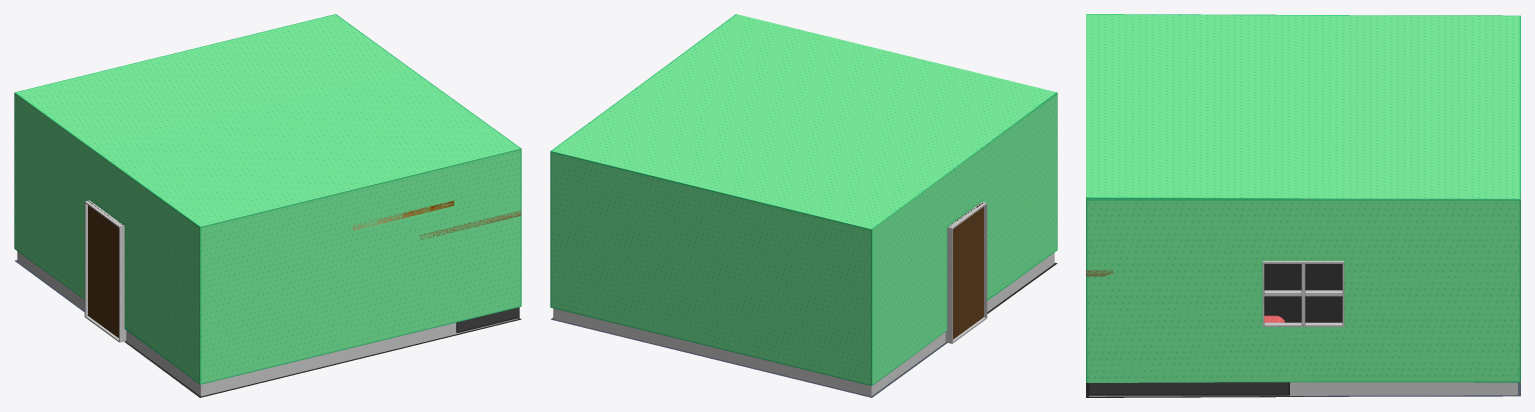
File: room.fbx
The picture shows the model from 3 angles, left to right: view 1: azimuth 30°, elevation 25°; view 2: azimuth 150°, elevation 25°; view 3: azimuth 270°, elevation 25°; orthographic projection. The views are drawn at different scales.
Parts seen in each view (by area): view 1: Room, Door, Frame, Bed, Shelf_1, Shelf; view 2: Room, Door, Frame; view 3: Room, Bed, Frame_1.
Boxes of the visible parts, <box> form: Room: <box>14,14,521,397</box>; Door: <box>88,201,122,337</box>; Frame: <box>84,200,126,342</box>; Bed: <box>456,307,519,332</box>; Shelf_1: <box>353,200,454,229</box>; Shelf: <box>420,210,521,239</box>; Room: <box>550,14,1057,397</box>; Door: <box>950,202,983,339</box>; Frame: <box>945,201,987,343</box>; Room: <box>1086,14,1520,397</box>; Bed: <box>1087,315,1289,395</box>; Frame_1: <box>1262,261,1344,326</box>.
Size of the model in its own units: 1638 by 812 by 1600.
3 materials, 3 textured.
